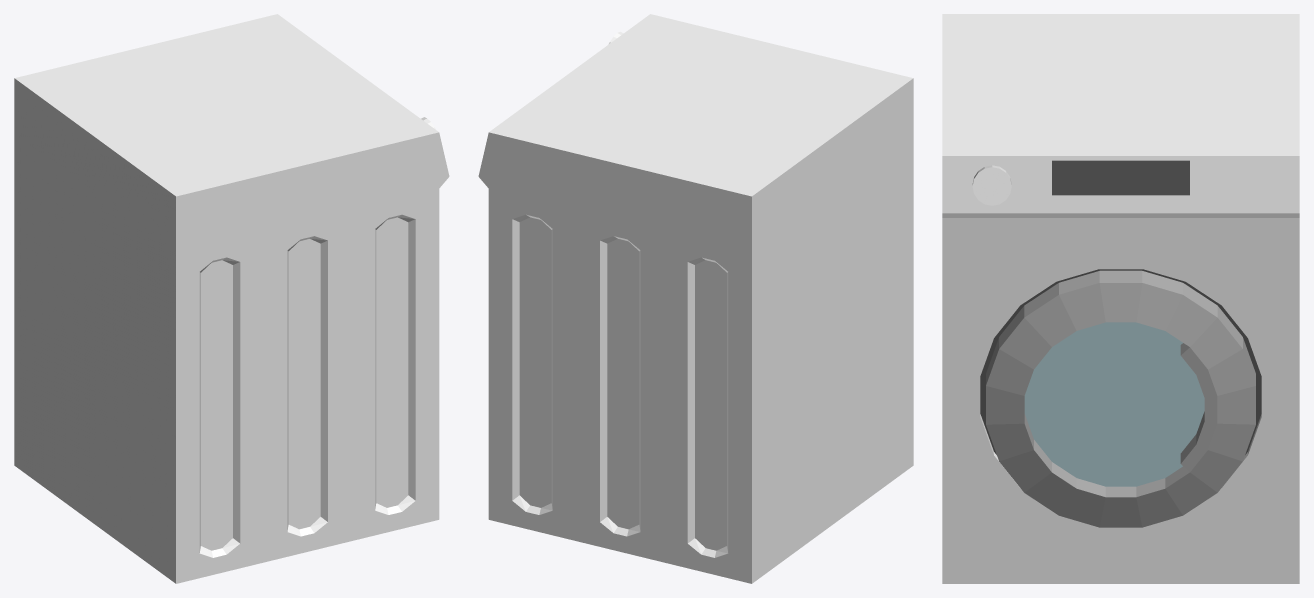
The model's file is Clothes dryer.glb.
3 views of the same model, side by side, from view 1: azimuth 30°, elevation 25°; view 2: azimuth 150°, elevation 25°; view 3: azimuth 270°, elevation 25° (orthographic). The views are drawn at different scales.
Visible parts, largest first — view 1: Clothes_Dryer; view 2: Clothes_Dryer; view 3: Clothes_Dryer.
Part boxes in pixels (box(x1,y1,x2,y2)): Clothes_Dryer: box(14, 14, 449, 583); Clothes_Dryer: box(478, 14, 913, 583); Clothes_Dryer: box(942, 14, 1299, 583).
Size of the model in its own units: 77.6 by 100 by 75.63.
1 material, 1 textured.
